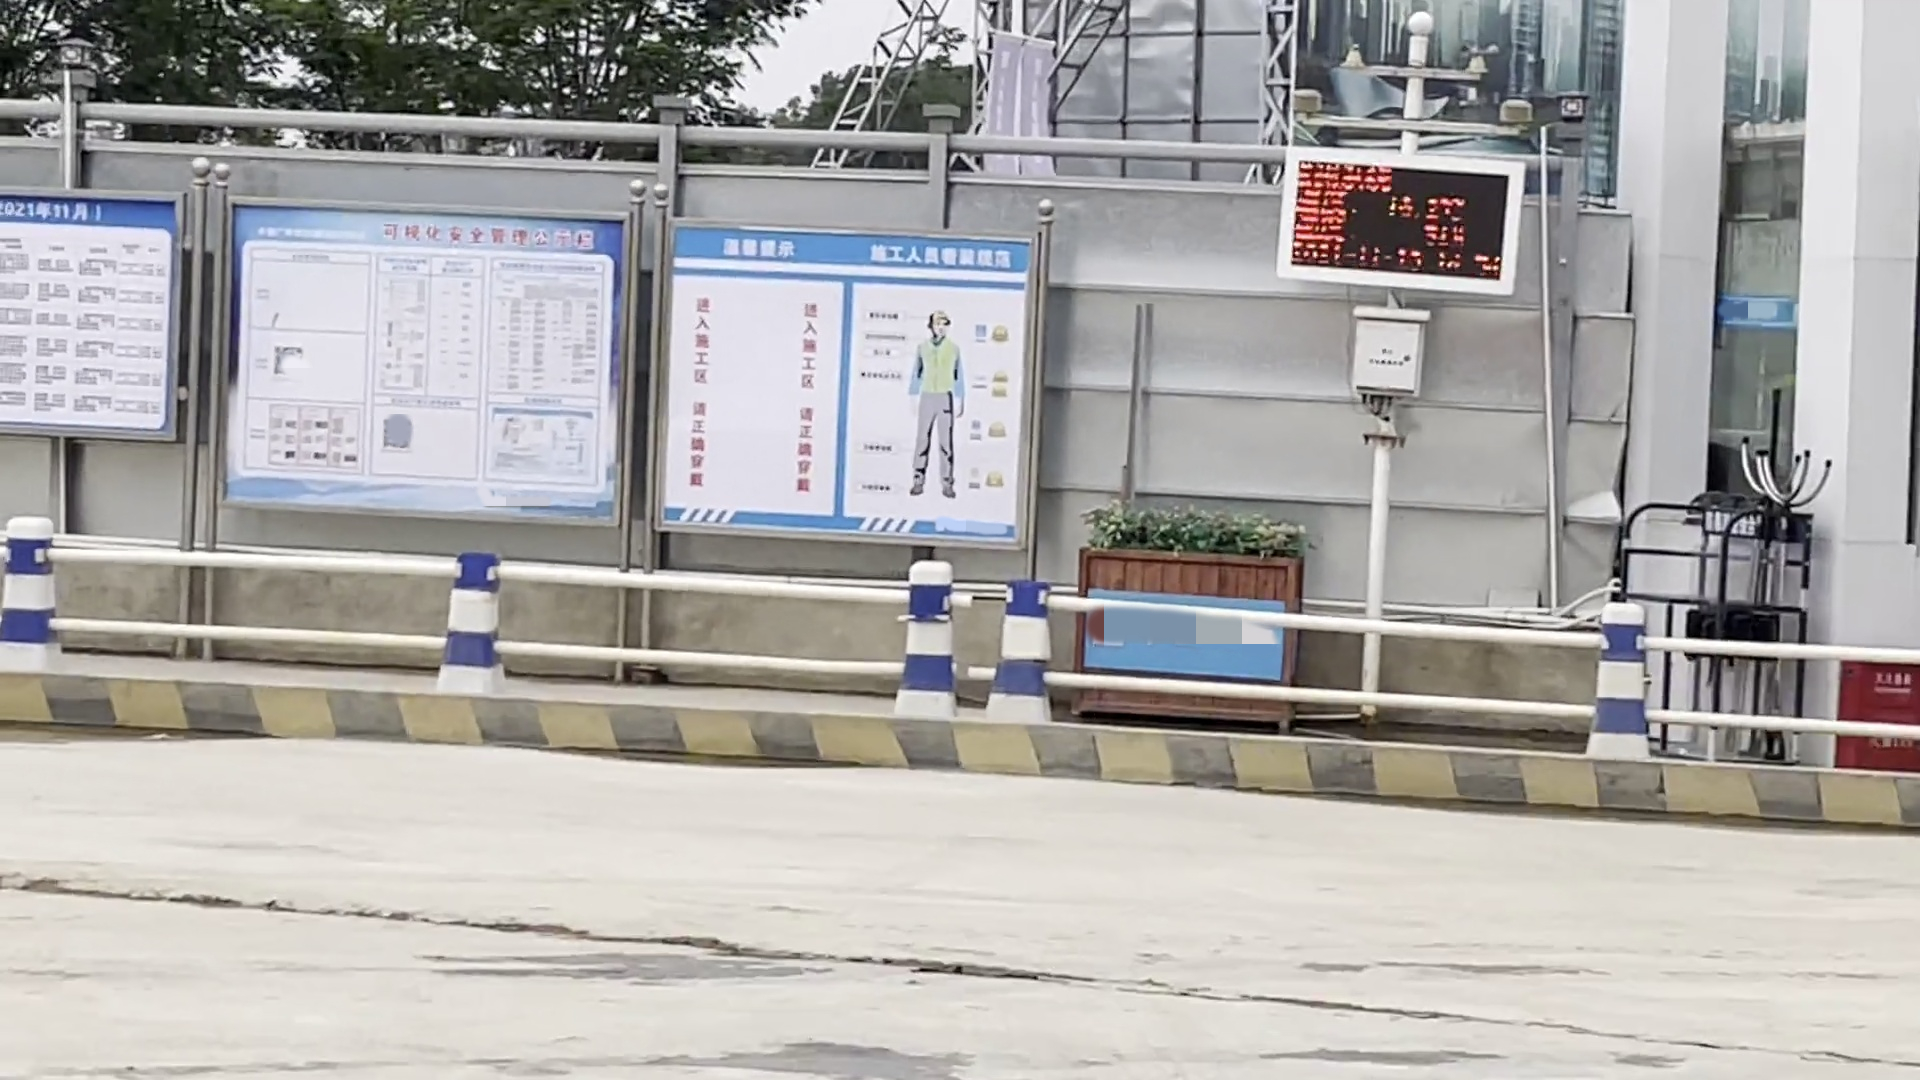slogan: (223, 208, 622, 535), (670, 232, 1025, 553), (1, 195, 185, 430)
